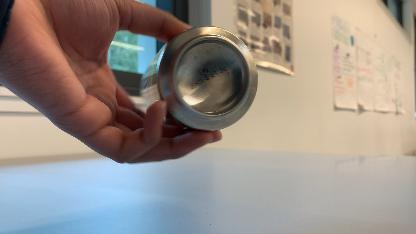Can: (138, 25, 264, 138)
